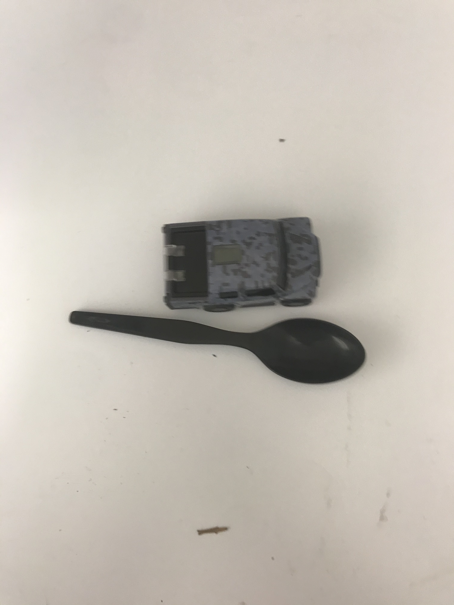MXT: (163, 216, 324, 314)
